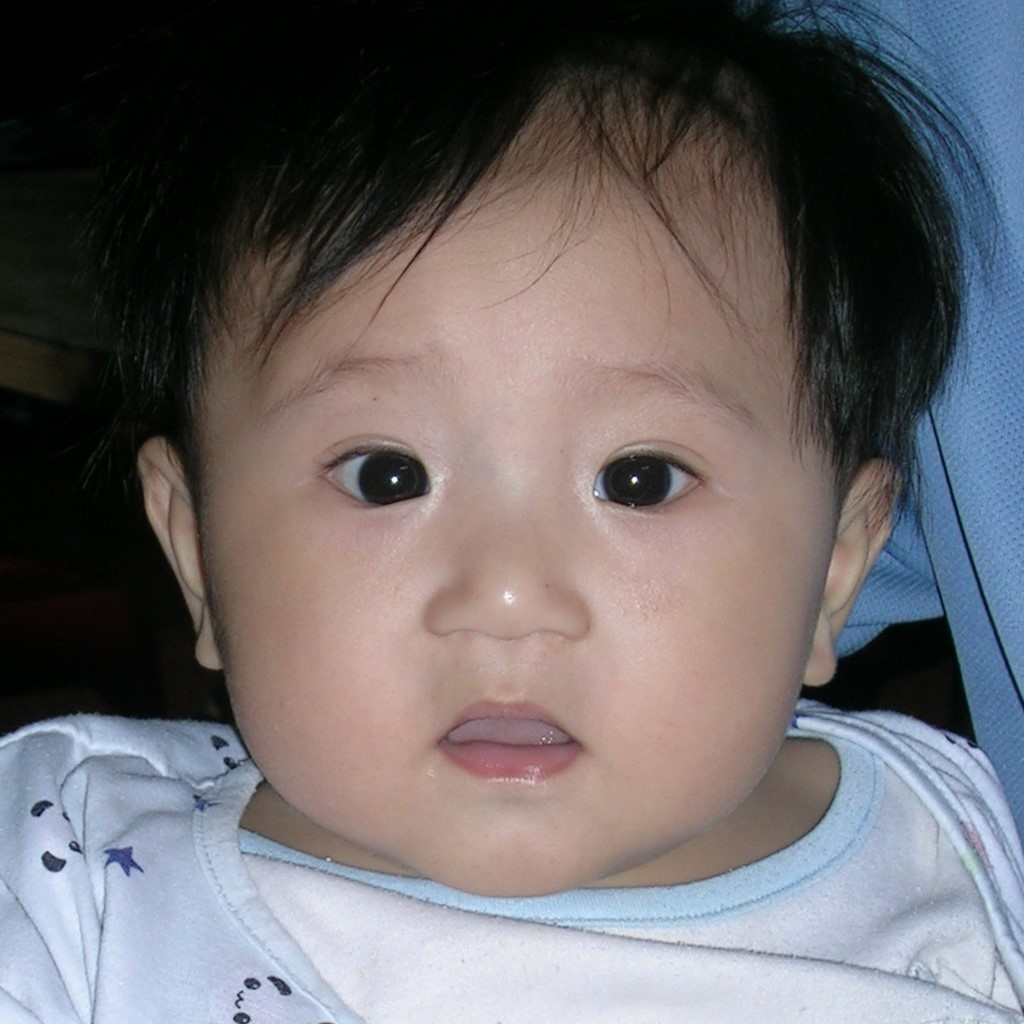sin_mascara: (215, 111, 817, 864)
